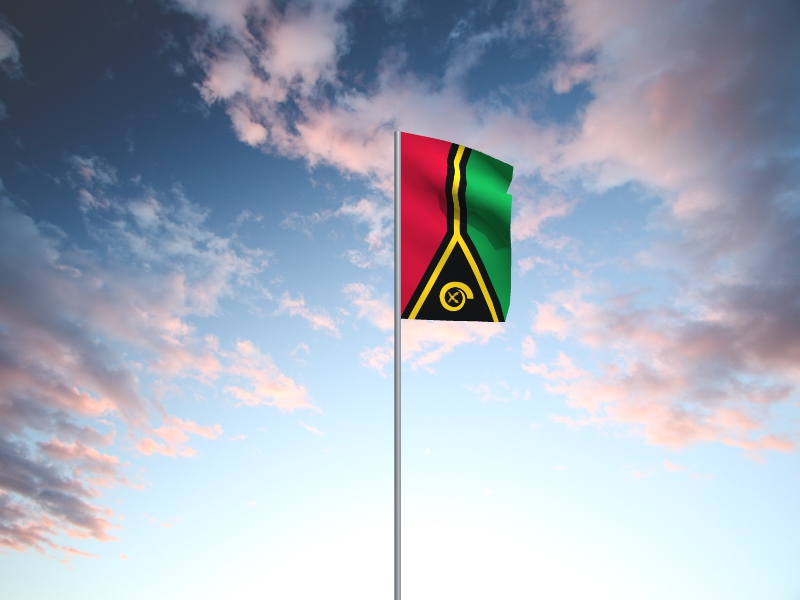vu: (399, 132, 515, 324)
